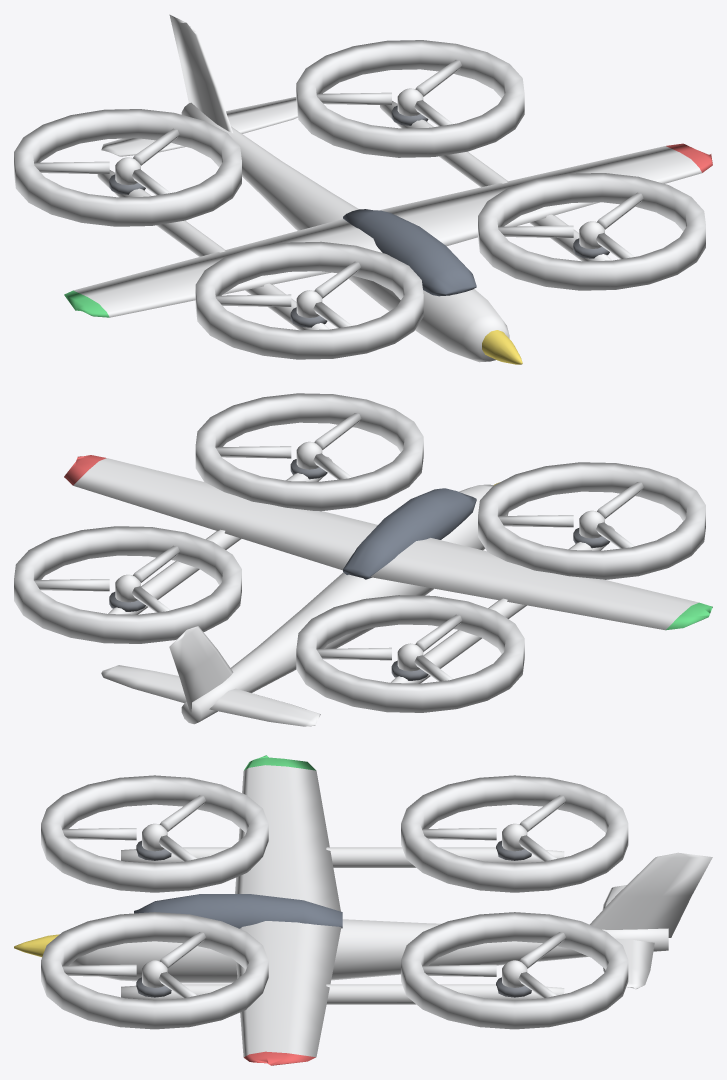
Rendered from uav-vtol.glb.
3 renders of one model, top to bottom at view 1: azimuth 30°, elevation 25°; view 2: azimuth 150°, elevation 25°; view 3: azimuth 270°, elevation 25°, orthographic.
Visible parts, largest first — view 1: part4, part5, part1, part2, part6, part0, part3; view 2: part4, part5, part1, part2, part0, part3; view 3: part4, part5, part1, part2, part3, part0.
Boxes of the visible parts, <box> form: part4: <box>14,40,705,359</box>; part5: <box>73,14,701,362</box>; part1: <box>343,209,476,296</box>; part2: <box>109,105,609,327</box>; part6: <box>482,330,522,364</box>; part0: <box>64,290,109,317</box>; part3: <box>666,143,712,172</box>; part4: <box>14,393,705,712</box>; part5: <box>73,441,698,726</box>; part1: <box>343,488,476,579</box>; part2: <box>109,459,609,680</box>; part0: <box>666,602,712,630</box>; part3: <box>64,455,106,485</box>; part4: <box>41,775,628,1029</box>; part5: <box>69,765,712,1057</box>; part1: <box>134,894,342,928</box>; part2: <box>136,840,531,997</box>; part3: <box>244,1051,315,1065</box>; part0: <box>244,755,315,770</box>.
Bounding box in the file's own units: 1.83 × 0.3533 × 1.77.
